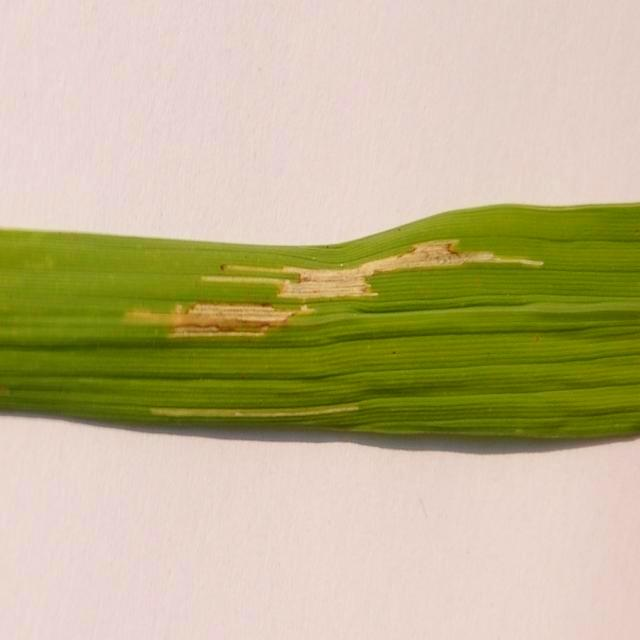bacterial_leaf_blight: (258, 241, 542, 299), (127, 303, 309, 336), (203, 265, 257, 282)
